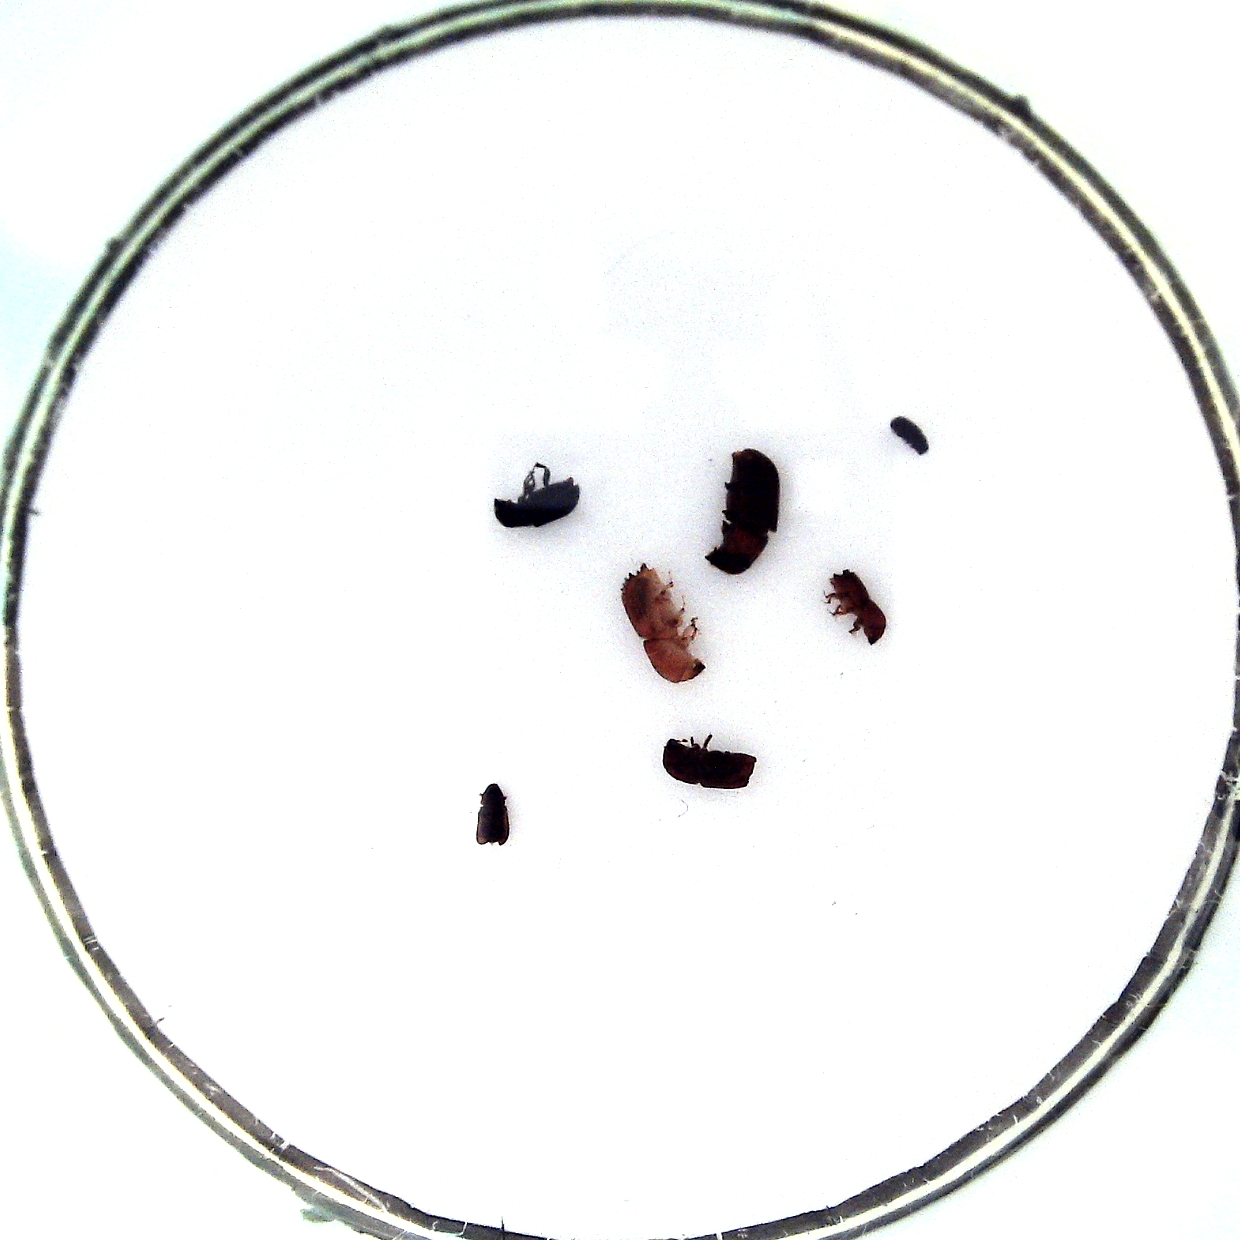Boerner: (620, 563, 707, 682)
Leconte: (704, 449, 781, 576)
acuminatus: (891, 416, 929, 455)
armandi: (494, 477, 580, 528)
coleoptera: (830, 569, 887, 645), (475, 784, 510, 846)
linnaeus: (662, 739, 759, 789)
